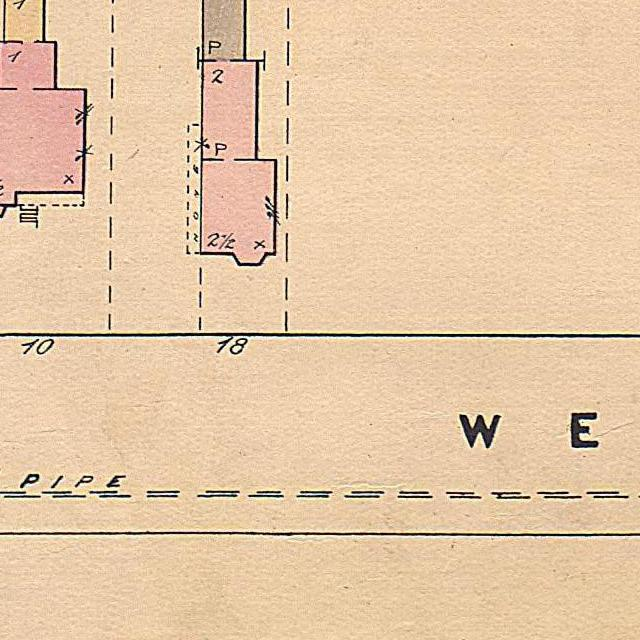building-footprints: (201, 0, 275, 264), (0, 0, 85, 216)
